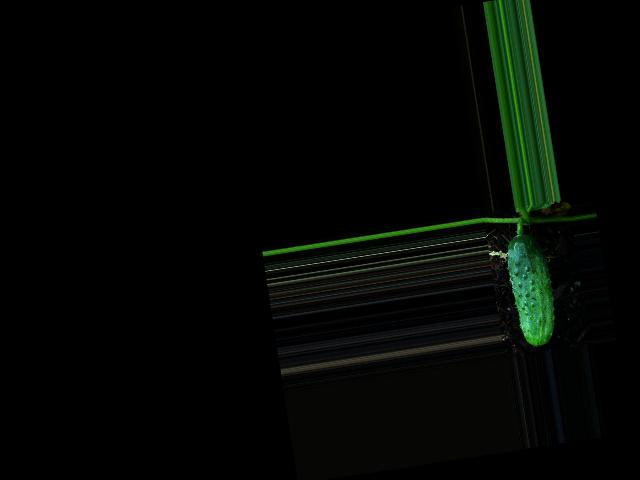cucumber: (503, 231, 561, 349)
